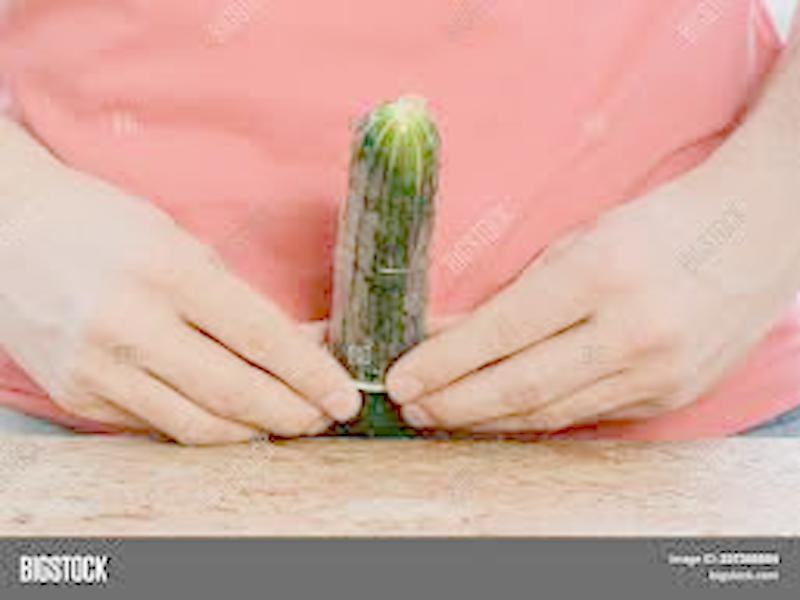Cucumber: (330, 98, 442, 435)
